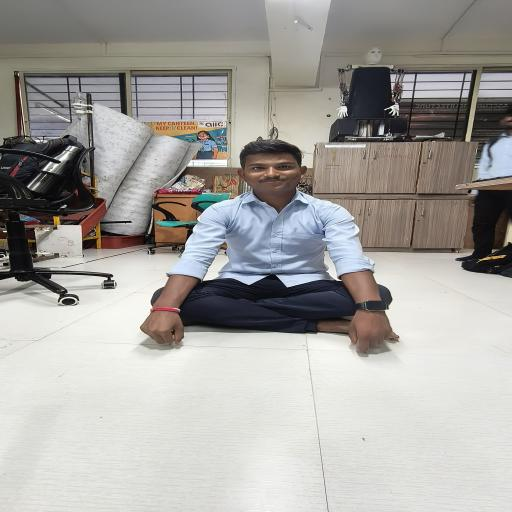survivor: (140, 139, 400, 355), (455, 113, 512, 262)
